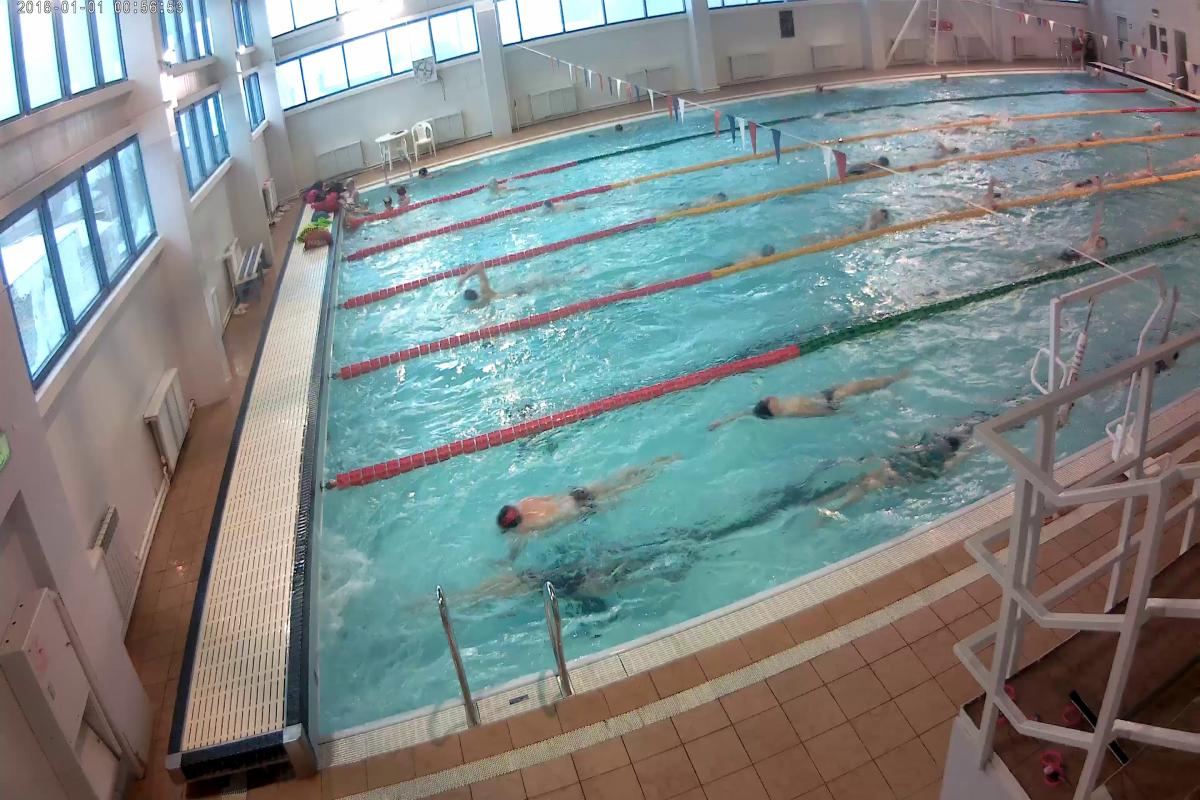swimmer: (495, 462, 636, 544), (719, 366, 896, 431), (855, 429, 974, 505), (454, 554, 622, 604), (451, 264, 507, 312), (1039, 227, 1111, 263), (971, 170, 1010, 205), (479, 180, 511, 202), (1064, 168, 1105, 184), (857, 156, 891, 174), (1014, 130, 1040, 148)
